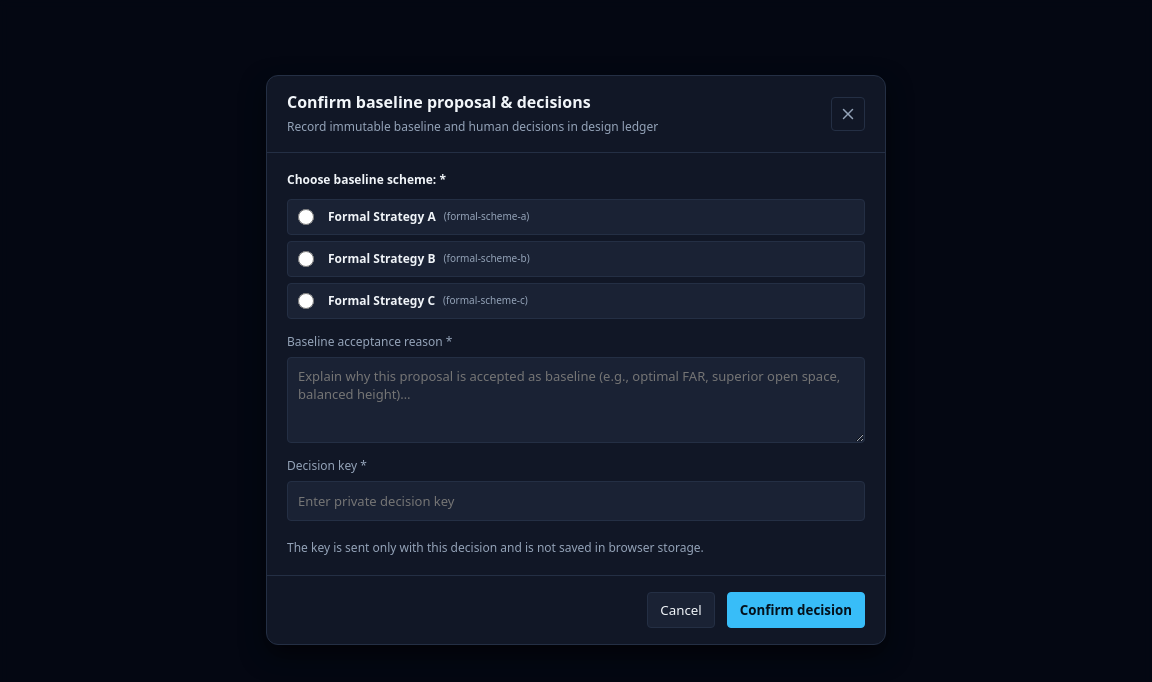
Test: ScenarioComparisonDialog › displays error message when submission fails with 403 or 429
The width and height of the screenshot is (1152, 682).
# Pick scheme A
Click the radio button labelled "Formal Strategy A (formal-scheme-a)". click: (306,217)
box: [298,209,314,225]
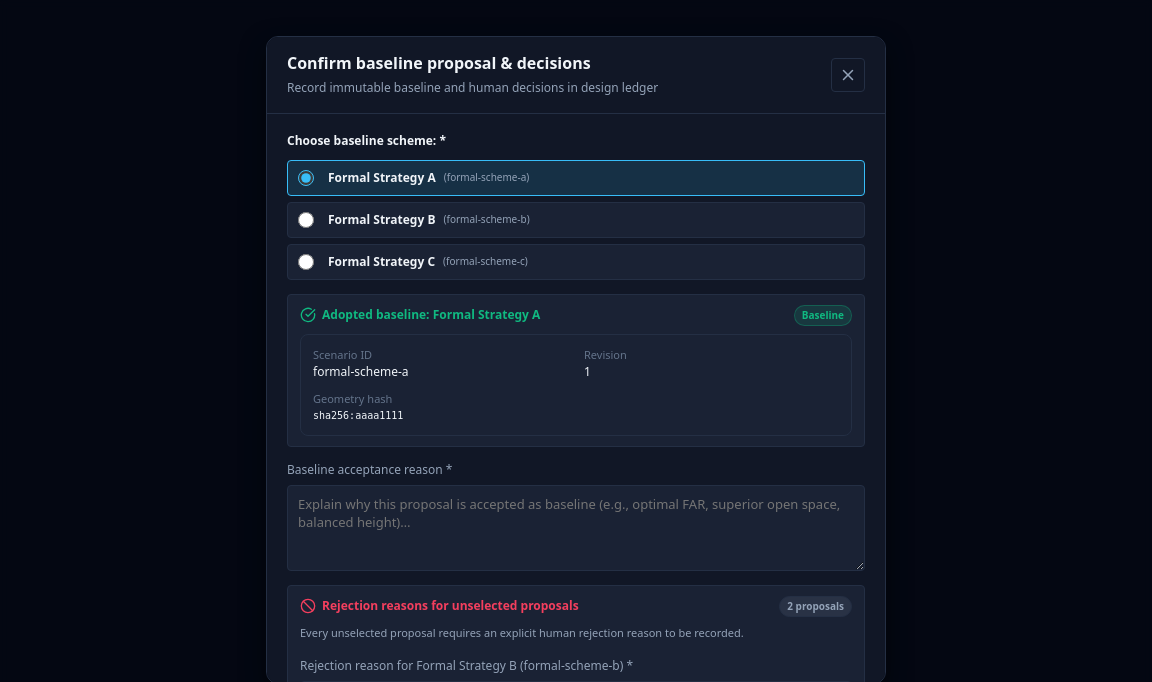
Replace the text in the text box with placeholder "Explain why this proposal is accepted as baseline (e.g., optimal FAR, superior open space, balanced height)…" with "Accept A". click: (576,528)
box: [287,485,865,571]
(page scrolled)
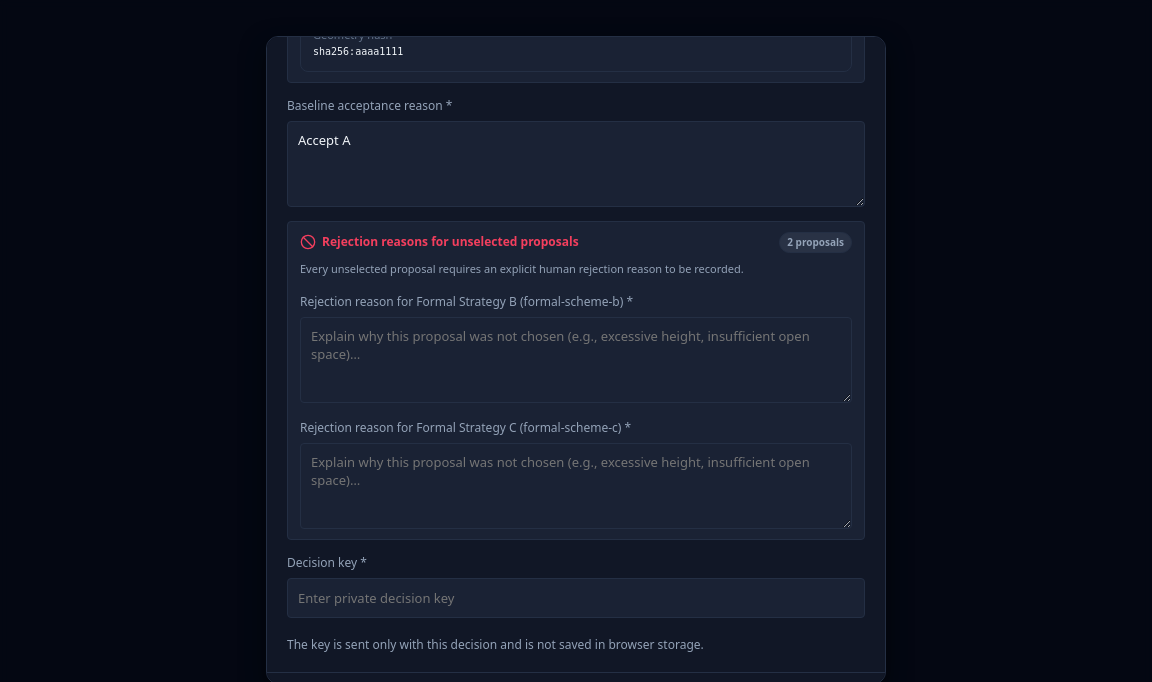
Replace the text in the text box with placeholder "Explain why this proposal was not chosen (e.g., excessive height, insufficient open space)…" with "Reject B". click: (576,360)
box: [300,317,852,403]
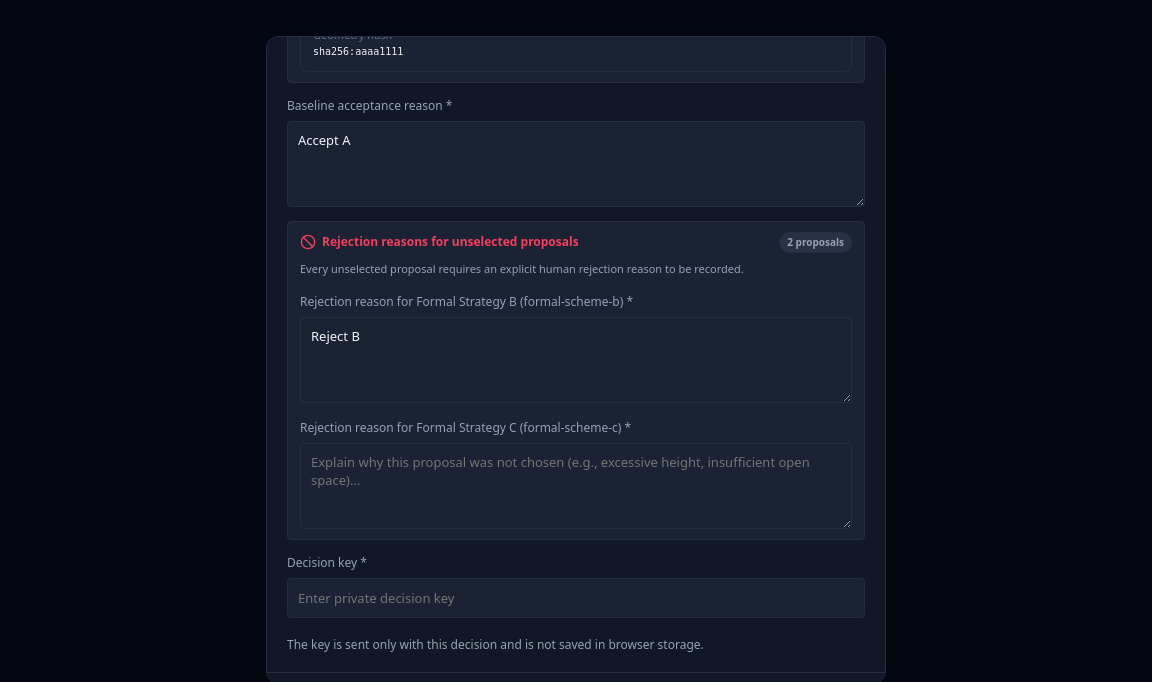
Replace the text in the text box with placeholder "Explain why this proposal was not chosen (e.g., excessive height, insufficient open space)…" with "Reject C". click: (576,486)
box: [300,443,852,529]
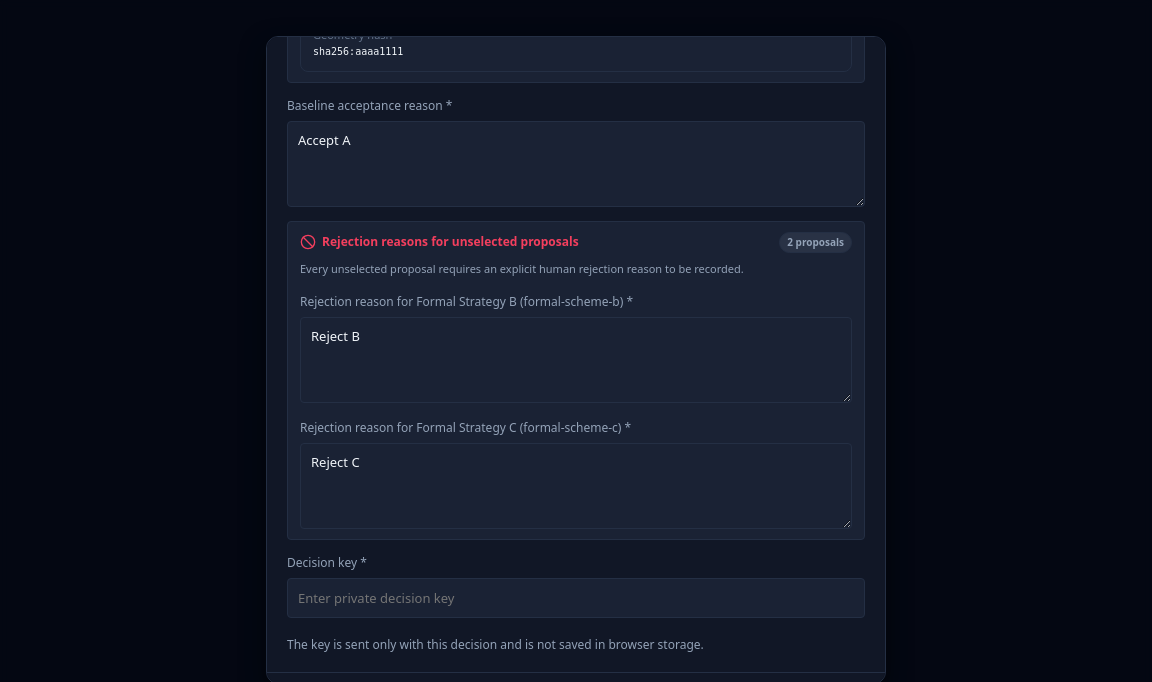
Type "wrong-key" into the password field with placeholder "Enter private decision key". click: (576,598)
box: [287,578,865,618]
(page scrolled)
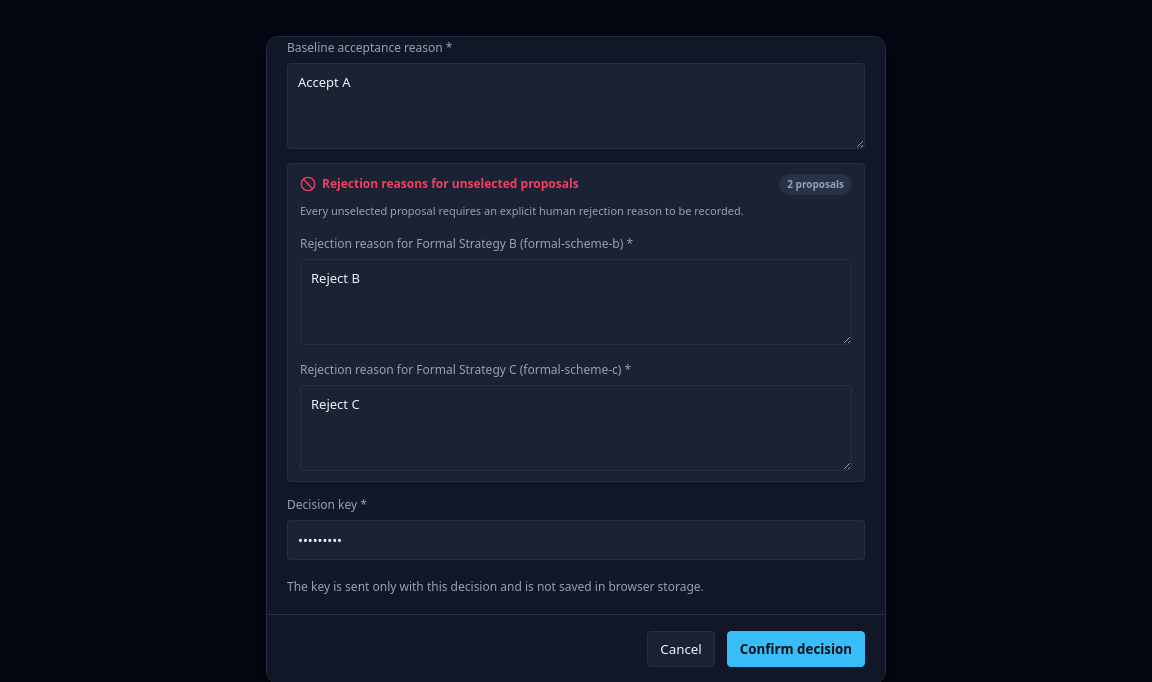
Click the button with test id "confirm-baseline-btn". click: (796,649)
box: [727,631,865,667]
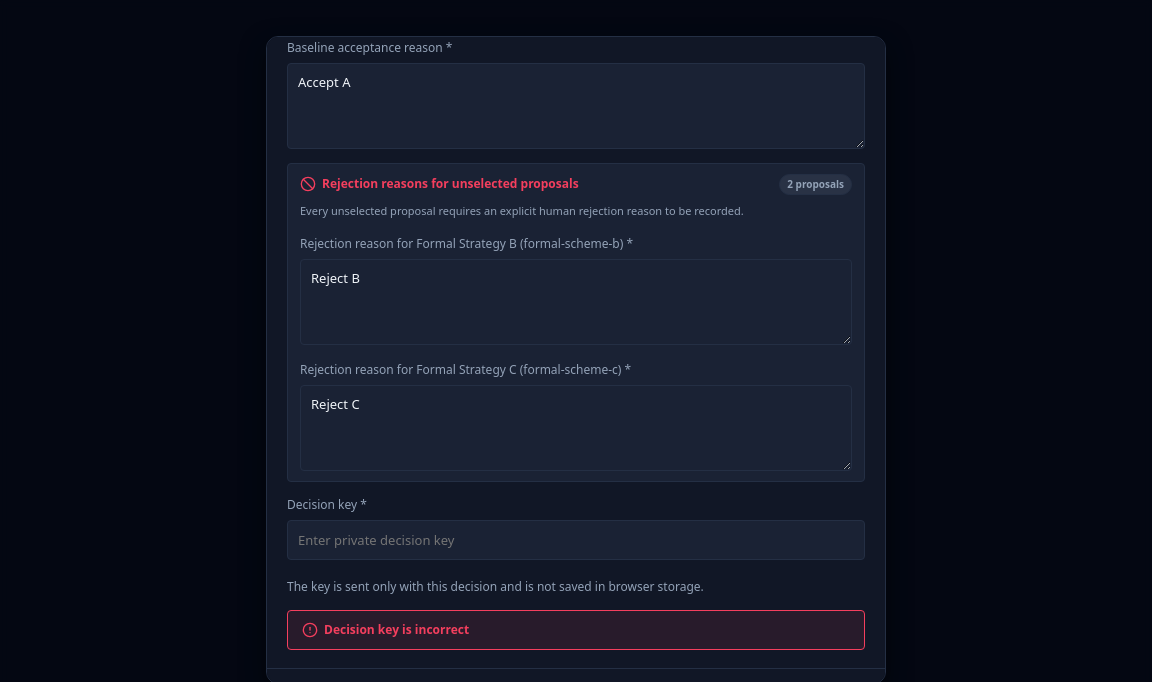
Result: the element with test id "server-error" reads "Decision key is incorrect" at [324,621,469,638]
